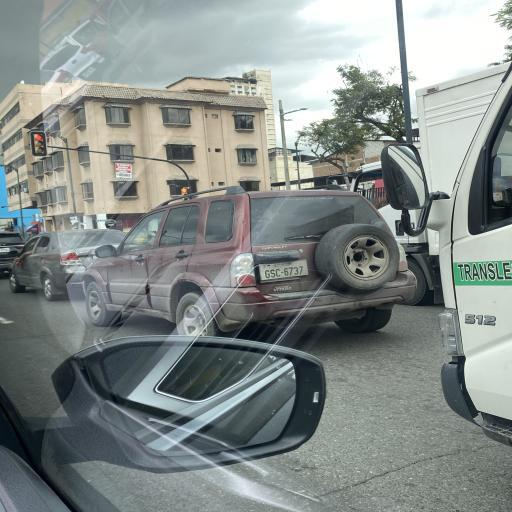license_plate: (298, 266, 304, 276), (264, 269, 270, 278), (270, 269, 275, 278), (284, 267, 289, 276), (276, 268, 280, 278), (294, 267, 299, 275), (289, 267, 293, 276)
